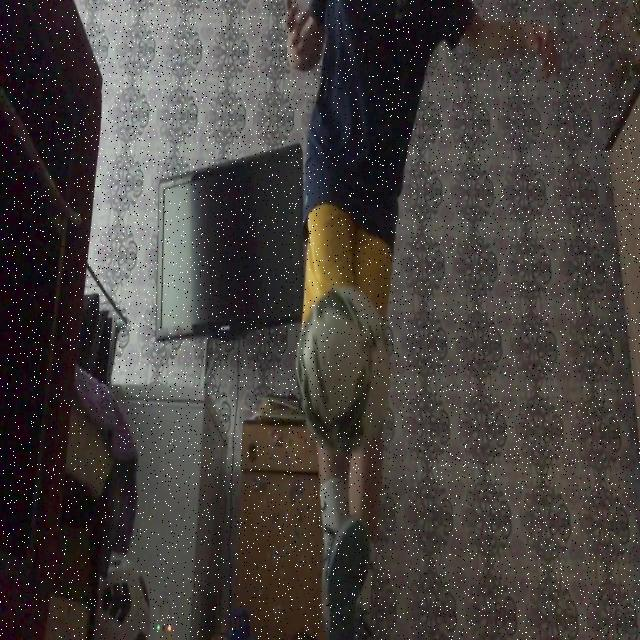ball: (296, 288, 390, 453), (92, 548, 150, 640)
